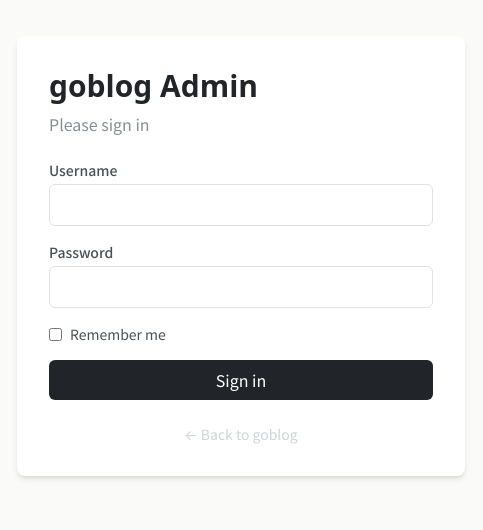
Test: Login › Login error › should clear previous error on new submission
// First failure
Type "user1" into the field labelled "Username". click: (241, 205)
box: [49,184,433,226]
Type "pass1" into the password field labelled "Password". click: (241, 287)
box: [49,266,433,308]
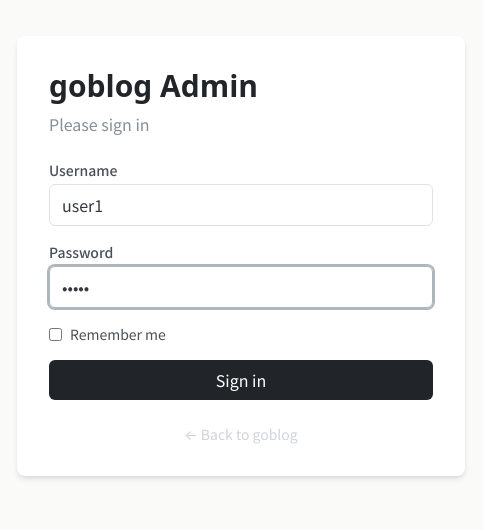
Click the button "Sign in". click: click(241, 380)
box: [49,360,433,400]
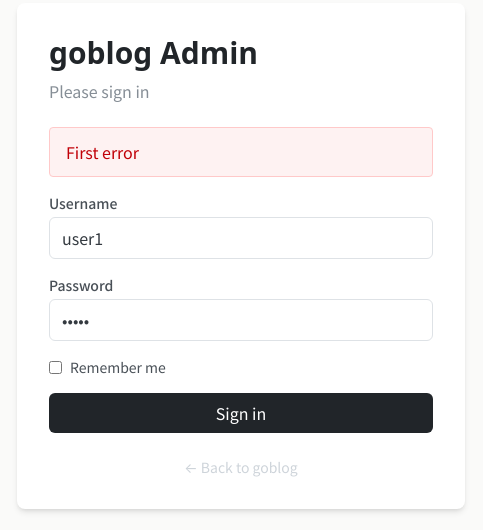
Expected: the text "First error" is shown, [49,127,433,177]
Clear the field labelled "Username". click: (241, 238)
box: [49,217,433,259]
Clear the password field labelled "Password". click: (241, 320)
box: [49,299,433,341]
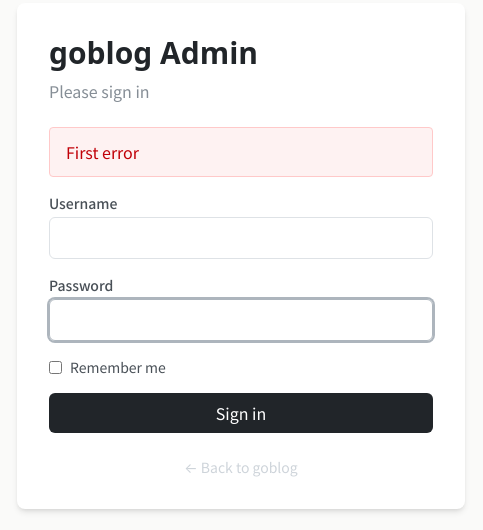
Type "user2" into the field labelled "Username". click: (241, 238)
box: [49,217,433,259]
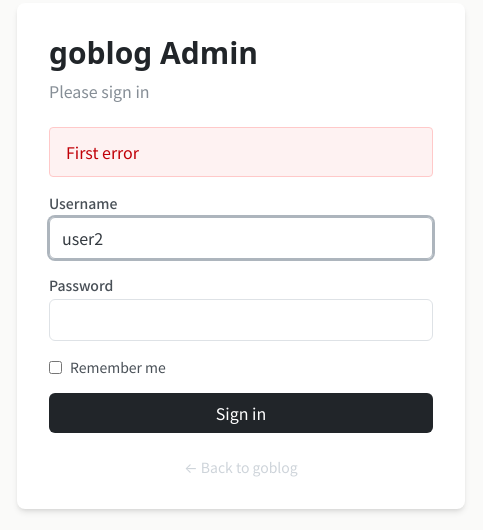
Type "pass2" into the password field labelled "Password". click: (241, 320)
box: [49,299,433,341]
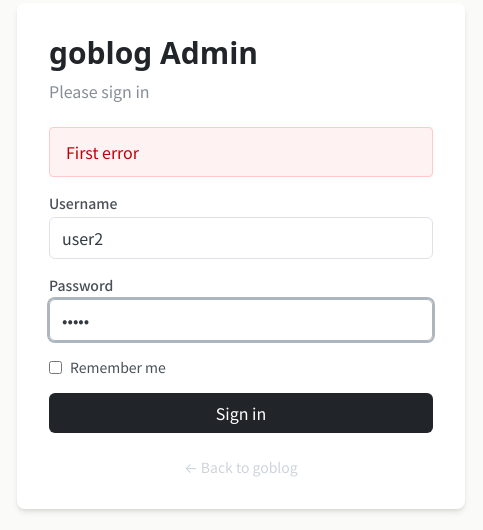
Click the button "Sign in". click: click(241, 413)
box: [49,393,433,433]
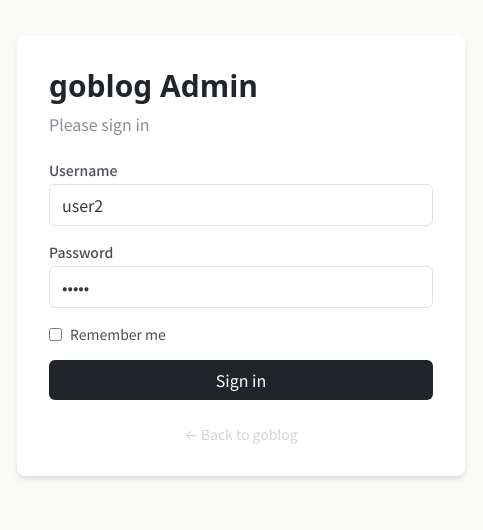
Expected: the text "First error" is gone
